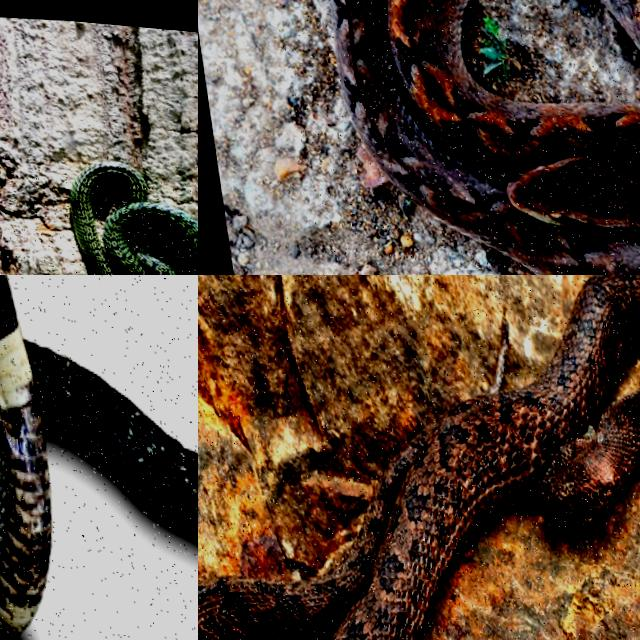Calloselasma rhodostoma: (330, 0, 639, 274)
Chrysopelea ornata: (70, 162, 197, 274)
Naja siamensis: (0, 275, 197, 638)
Ovophis monticola: (198, 275, 639, 639)
